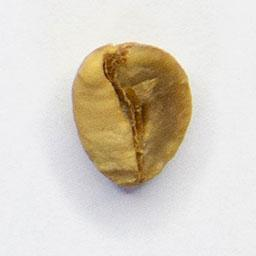defect: (68, 40, 195, 189)
